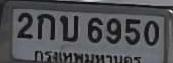0: (143, 19, 158, 45)
2: (16, 12, 32, 38)
5: (124, 18, 139, 44)
6: (87, 16, 102, 42)
9: (105, 17, 120, 43)
A01: (36, 13, 54, 39)
A26: (59, 14, 78, 41)
BKK: (31, 48, 143, 63)
